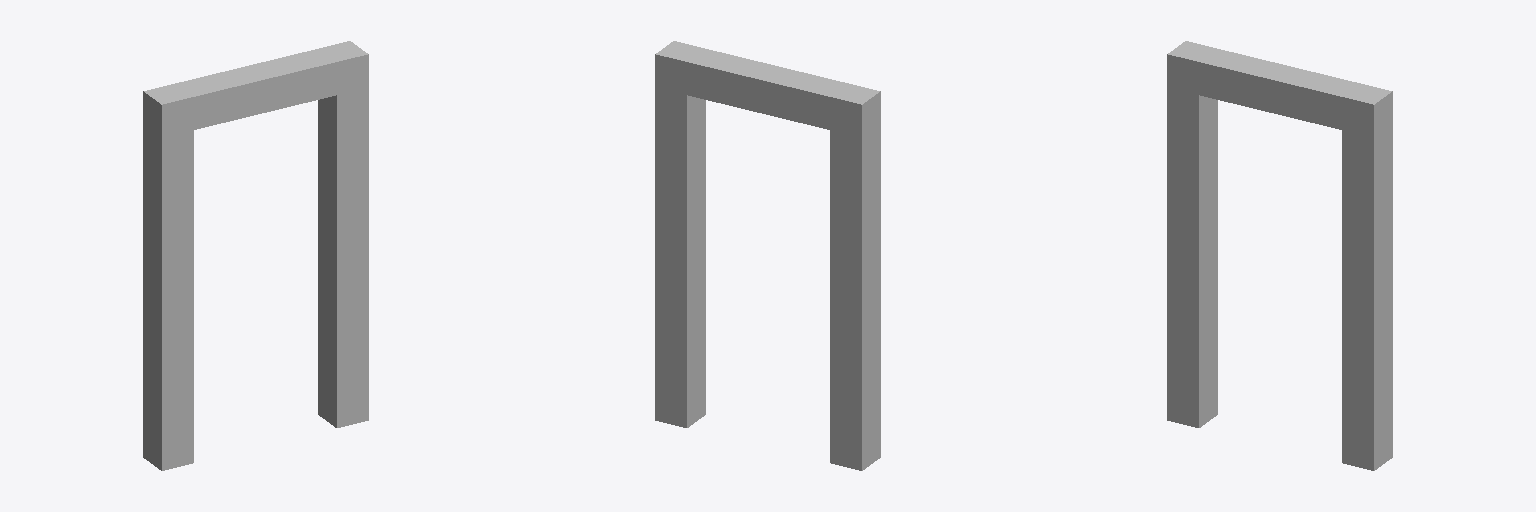
File: SoloMarco.obj
3 views of the same model, side by side, from view 1: azimuth 30°, elevation 25°; view 2: azimuth 150°, elevation 25°; view 3: azimuth 330°, elevation 25° (orthographic).
Parts seen in each view (by area): view 1: object 1; view 2: object 1; view 3: object 1.
Part boxes in pixels (left/top/right/bottom): object 1: left=143, top=41, right=368, bottom=470; object 1: left=655, top=41, right=880, bottom=470; object 1: left=1167, top=41, right=1392, bottom=470.
Bounding box in the file's own units: 1.3 × 2.2 × 0.2.